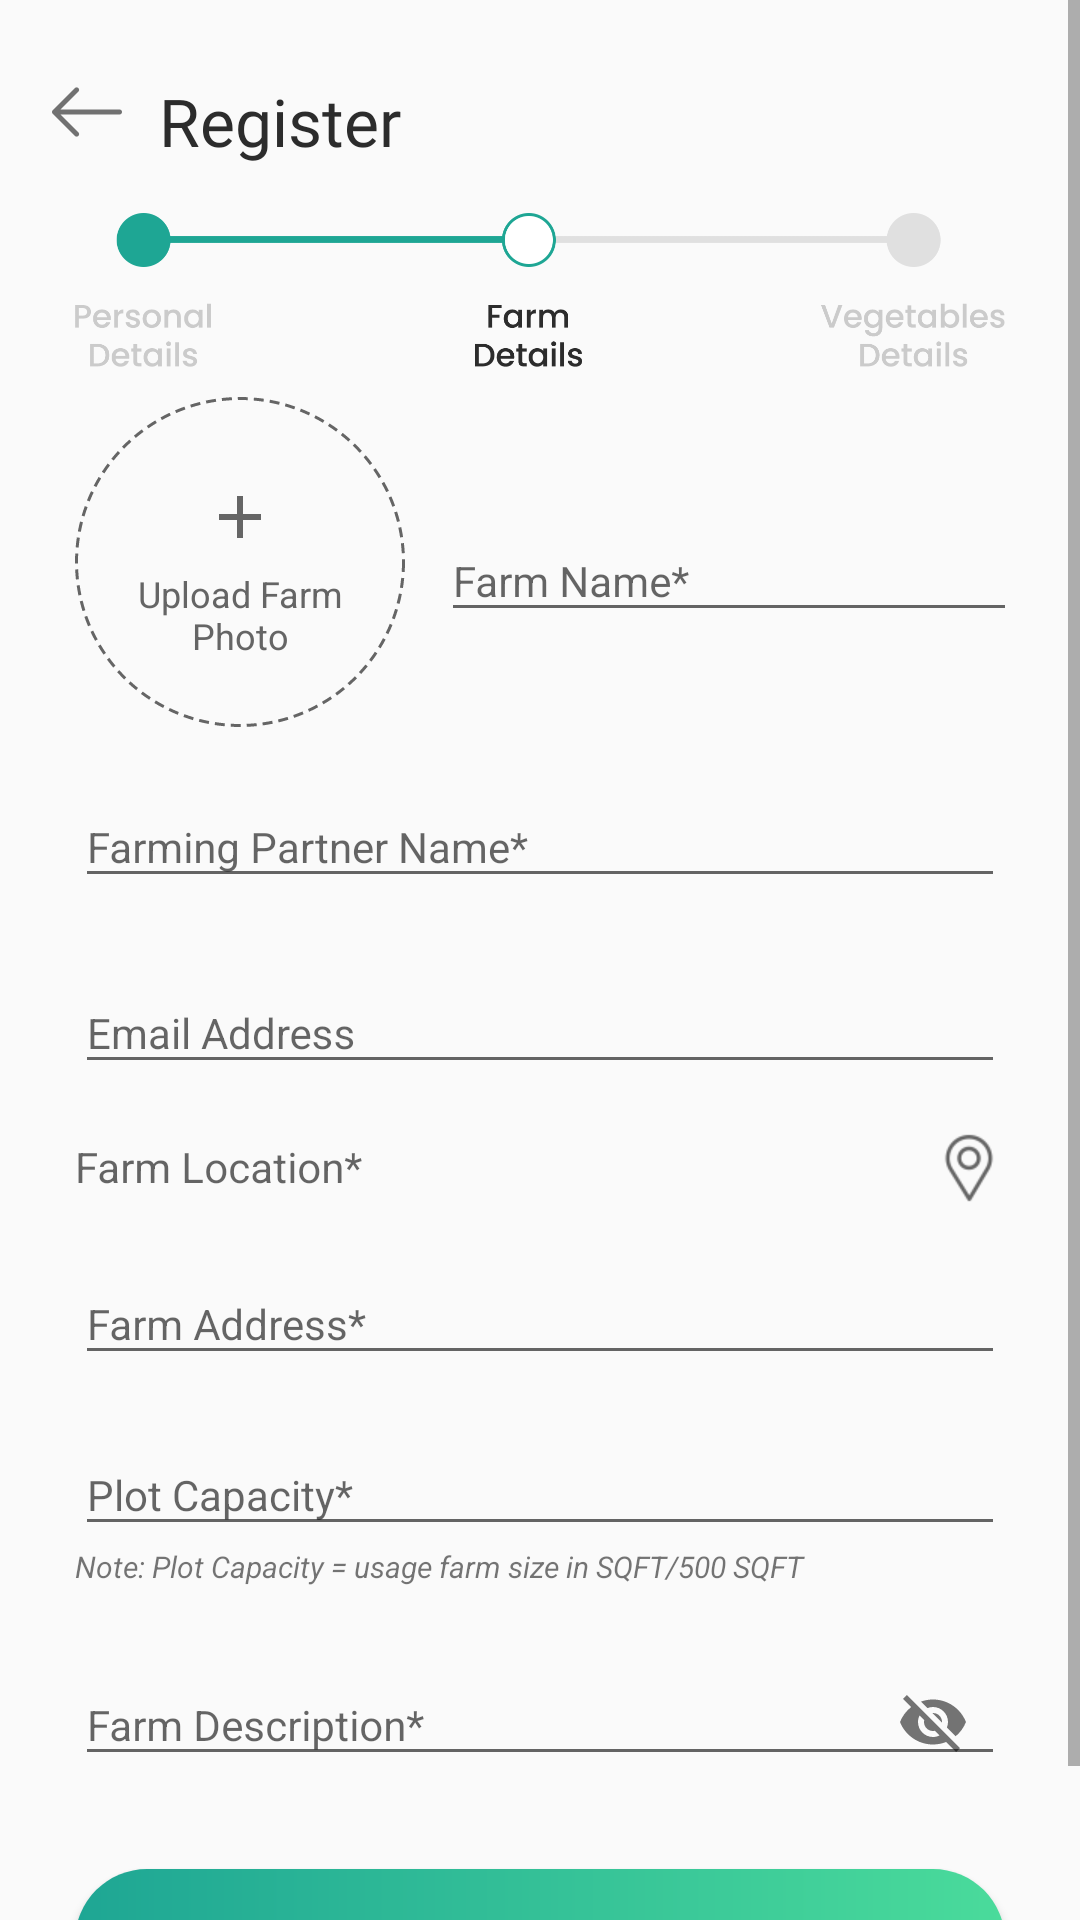

Icon click points for this 1080px×1920px phone screenshot, format point (x, y):
add: point (240, 517)
back: point (87, 112)
